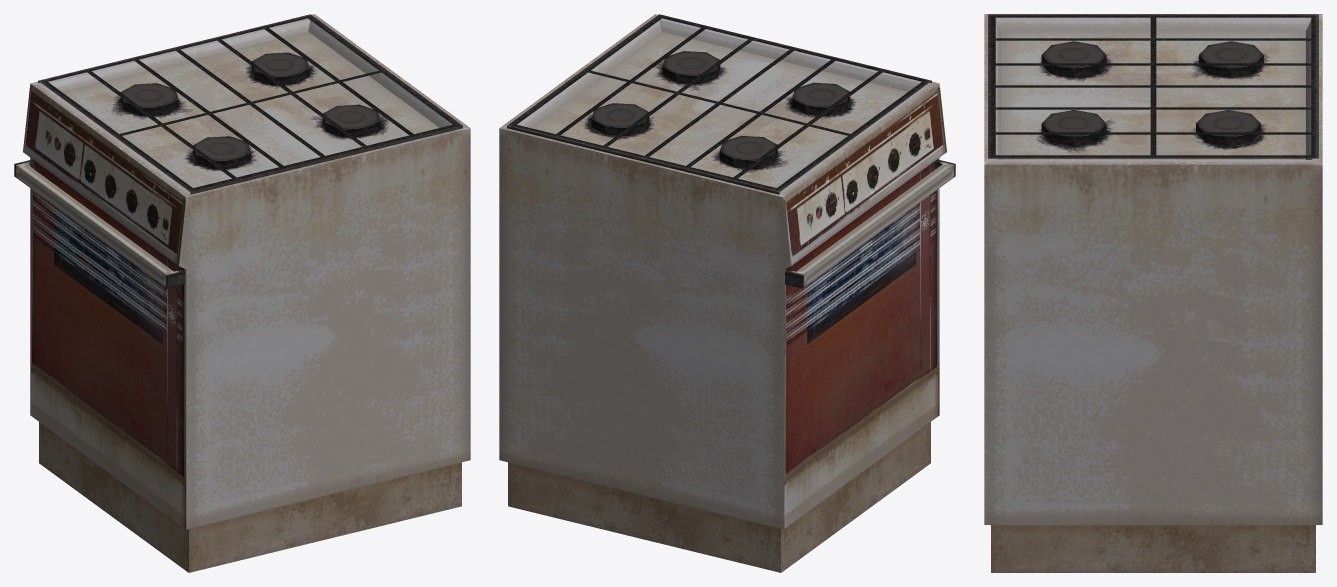
File: stove.fbx
3 renders of one model, left to right at view 1: azimuth 30°, elevation 25°; view 2: azimuth 150°, elevation 25°; view 3: azimuth 270°, elevation 25°, orthographic. The views are drawn at different scales.
Visible parts, largest first — view 1: Plane; view 2: Plane; view 3: Plane.
Boxes of the visible parts, x1,y1,x2,y2 form: Plane: [14, 14, 470, 572]; Plane: [499, 14, 955, 572]; Plane: [984, 14, 1322, 572].
Size of the model in its own units: 55.05 by 66.55 by 49.32.
